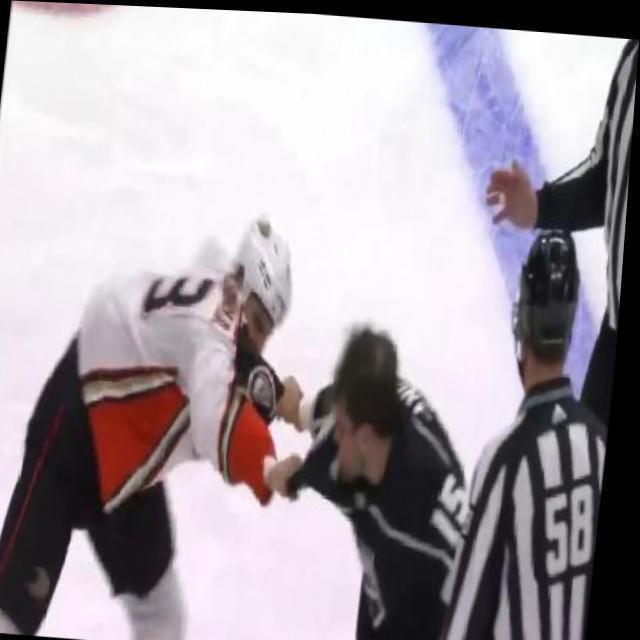fight: (0, 192, 407, 640), (148, 279, 497, 640)
